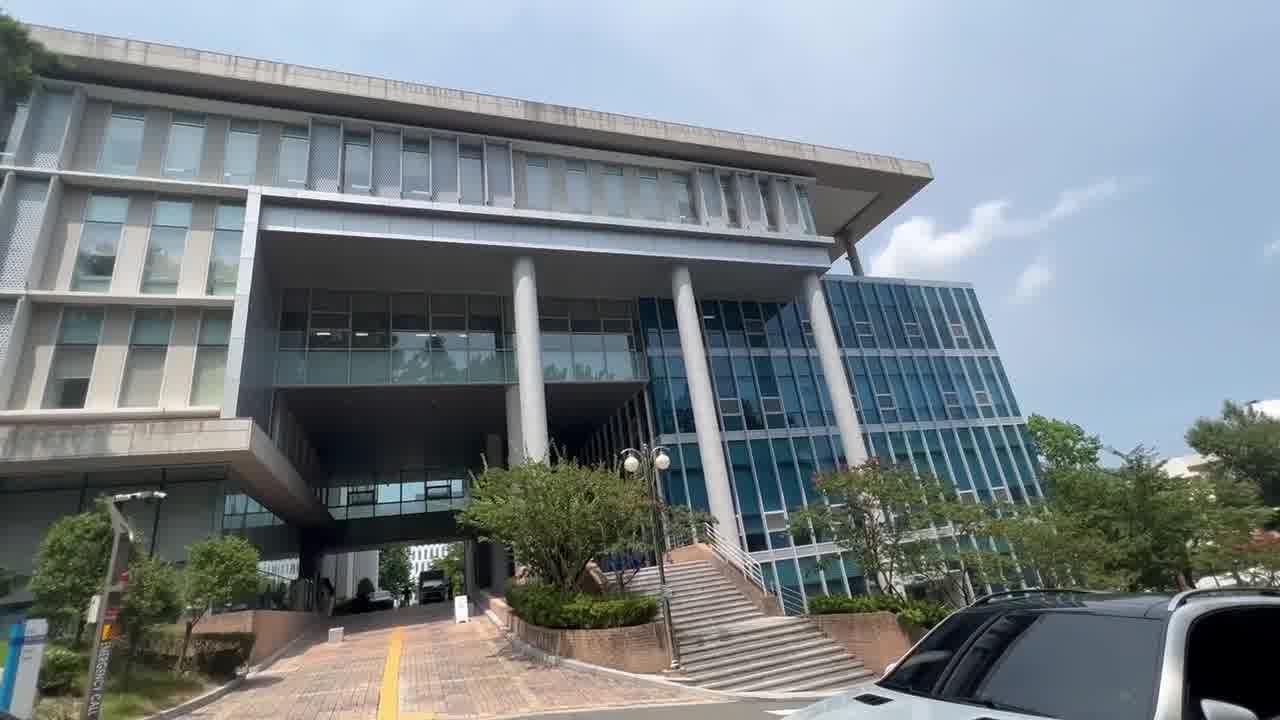building: (20, 1, 1044, 469)
